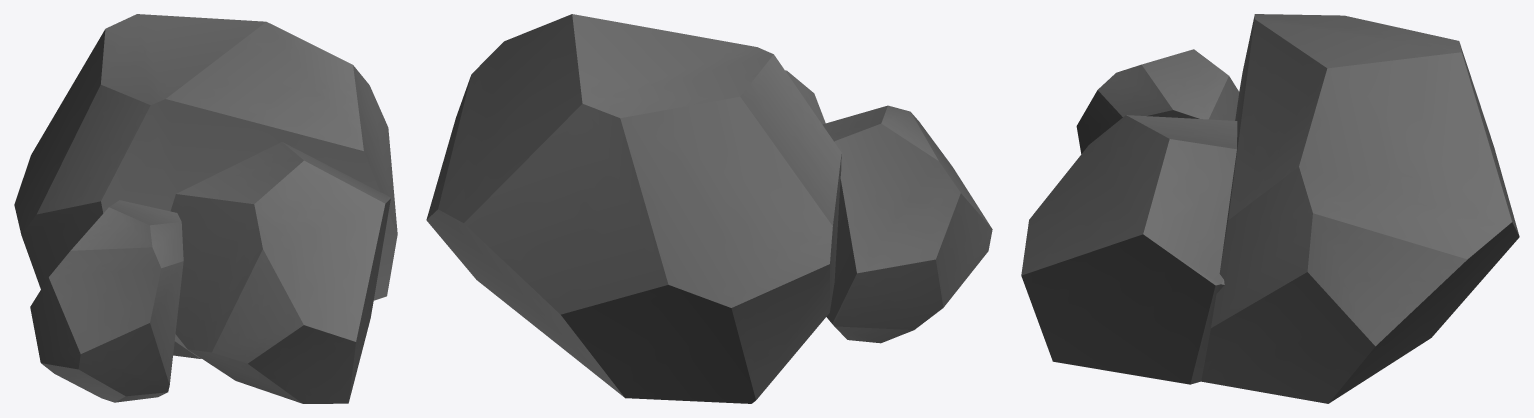
File: pack02_rocks_05.fbx
3 views of the same model, side by side, from view 1: azimuth 30°, elevation 25°; view 2: azimuth 150°, elevation 25°; view 3: azimuth 270°, elevation 25° (orthographic). The views are drawn at different scales.
Parts seen in each view (by area): view 1: Rock Type2 01 mesh; view 2: Rock Type2 01 mesh; view 3: Rock Type2 01 mesh.
Part boxes in pixels (x1,y1,x2,y2): Rock Type2 01 mesh: (14,14,397,403); Rock Type2 01 mesh: (426,14,992,403); Rock Type2 01 mesh: (1021,14,1519,403).
Bounding box in the file's own units: 179 × 126 × 175.
1 material, 1 textured.
